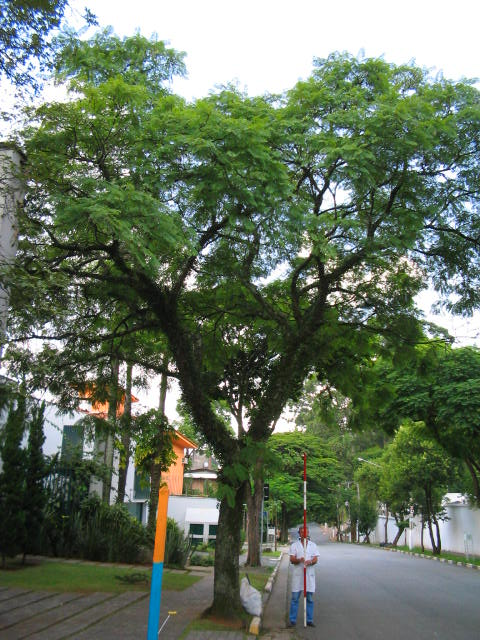crown: (19, 55, 473, 384)
stem: (196, 465, 262, 616)
stick: (294, 454, 312, 627)
tree: (15, 54, 474, 616)
